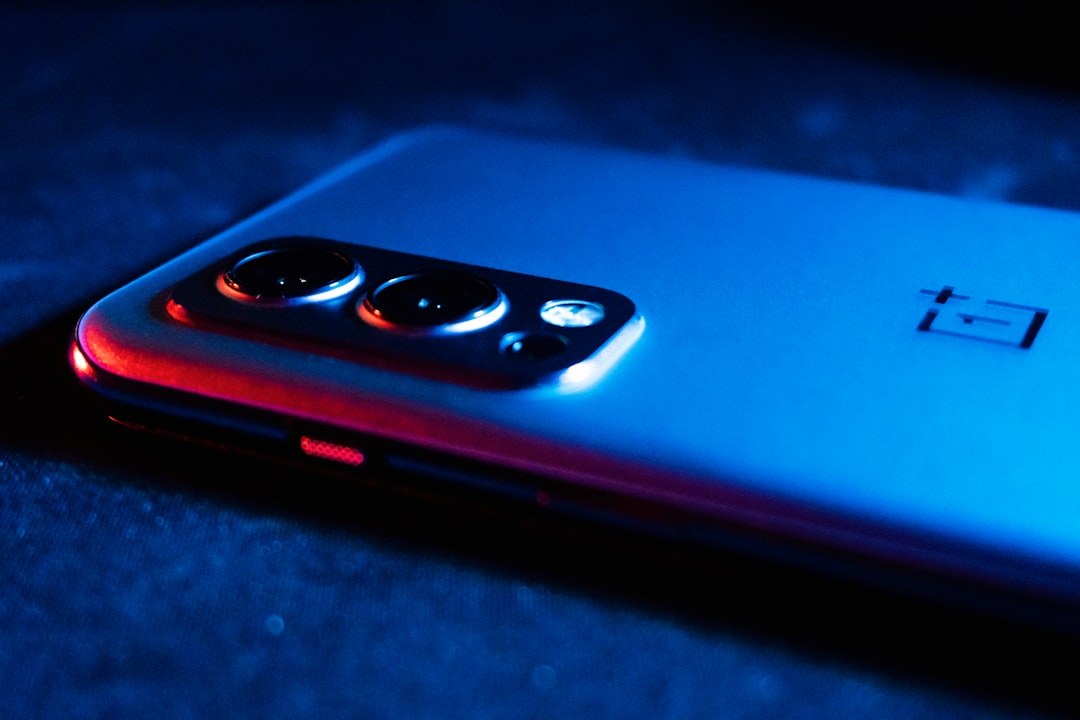phone: (50, 118, 1080, 654)
